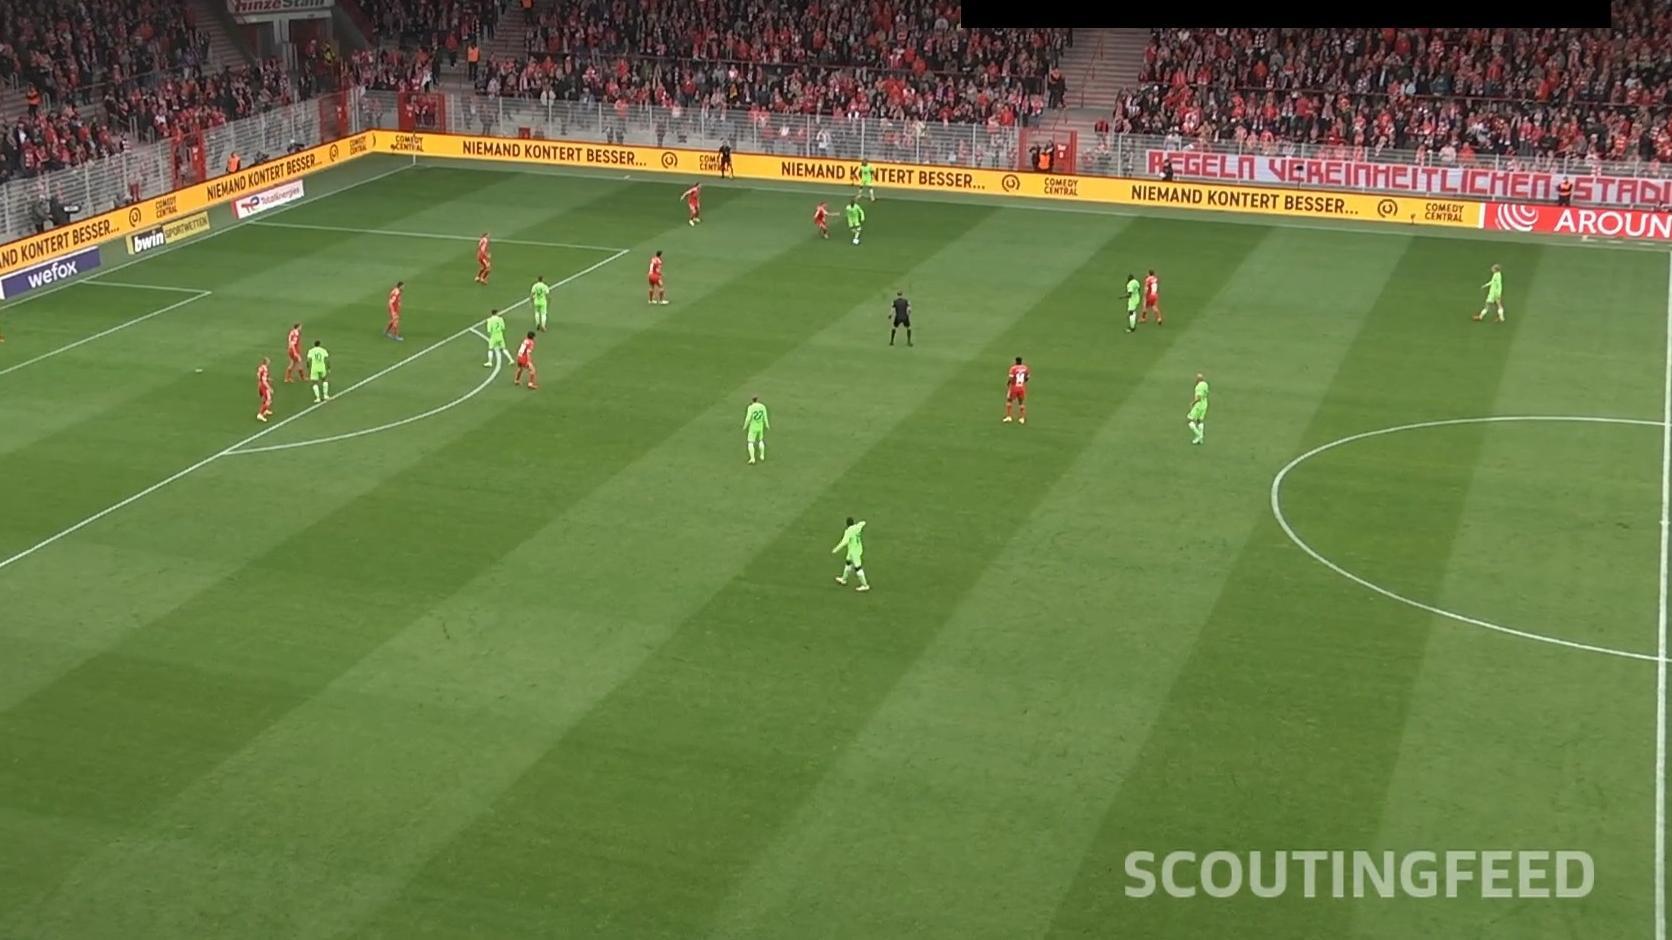ball: (851, 236, 861, 247)
